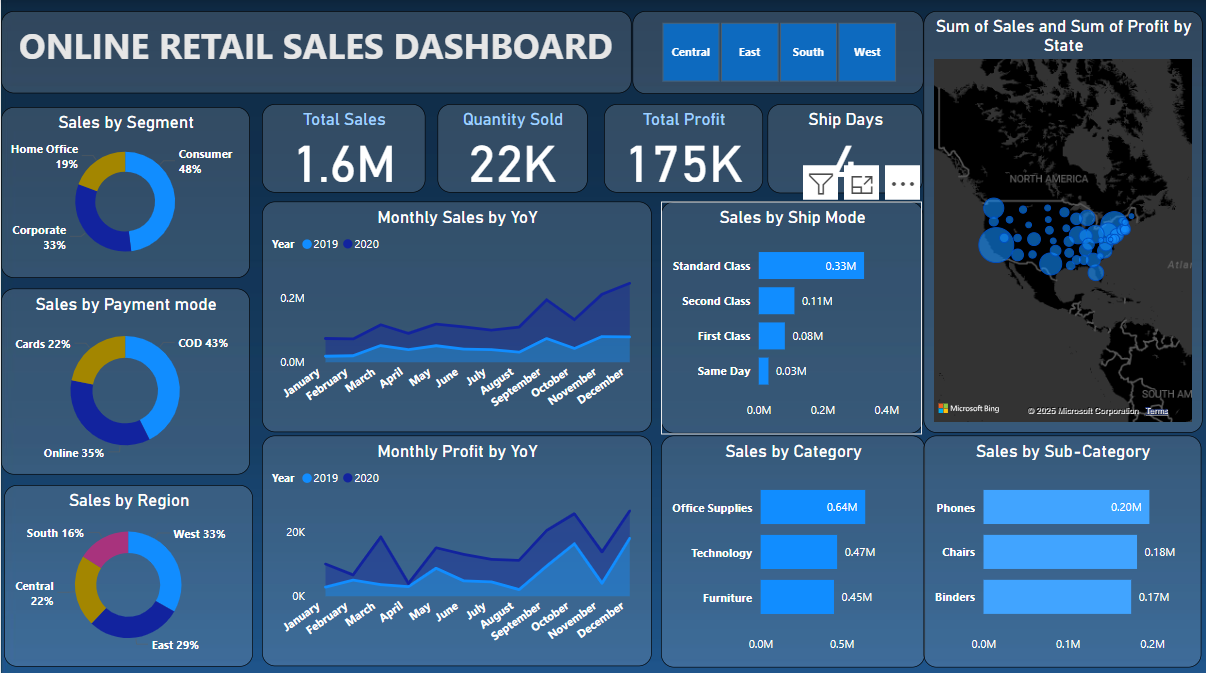

What the dashboard file says about the page in this screenshot:
{"tool":"powerbi","page":{"name":"Dashboard","canvas":[1280,720],"ordinal":0},"visuals":[{"type":"clusteredBarChart","title":"Sales by Category","fields":{"Category":["Sheet1.Category"],"Y":["Sum(Sheet1.Sales)"]},"box":[699.2,463,279.7,245.7],"z":0},{"type":"clusteredBarChart","title":"Sales by Sub-Category","fields":{"Category":["Sheet1.Sub-Category"],"Y":["Sum(Sheet1.Sales)"]},"box":[978.9,463,294.8,245.7],"z":1000},{"type":"card","title":"Total Sales","fields":{"Values":["Sum(Sheet1.Sales)"]},"box":[276.8,111.3,173.4,93.8],"z":2000},{"type":"card","title":"Ship Days","fields":{"Values":["Avg(Sheet1.Avg Delivery)"]},"box":[812.6,111.5,164.4,94.5],"z":3000},{"type":"card","title":"Quantity Sold","fields":{"Values":["Sum(Sheet1.Quantity)"]},"box":[462.9,111.3,159.1,93.8],"z":4000},{"type":"card","title":"Total Profit","fields":{"Values":["Sum(Sheet1.Profit)"]},"box":[639.4,111.3,168.6,93.8],"z":5000},{"type":"clusteredBarChart","title":"Sales by Ship Mode","fields":{"Category":["Sheet1.Ship Mode"],"Y":["Sum(Sheet1.Sales)"]},"box":[699.2,215.4,277.8,245.7],"z":6000},{"type":"map","fields":{"Category":["Sheet1.State"],"Size":["Sum(Sheet1.Sales)"]},"box":[978.6,12.9,295.7,447.1],"z":7000},{"type":"stackedAreaChart","title":"Monthly Sales by YoY","fields":{"Y":["Sum(Sheet1.Sales)"],"Series":["Sheet1.Order Date.Variation.Date Hierarchy.Year"],"Category":["Sheet1.Order Date.Variation.Date Hierarchy.Month","Sheet1.Order Date.Variation.Date Hierarchy.Day"]},"box":[276.8,214.7,413.6,245],"z":8000},{"type":"slicer","fields":{"Values":["Sheet1.Region"]},"box":[669.3,12.1,308.9,87.8],"z":9000},{"type":"stackedAreaChart","title":"Monthly Profit by YoY","fields":{"Series":["Sheet1.Order Date.Variation.Date Hierarchy.Year"],"Y":["Sum(Sheet1.Profit)"],"Category":["Sheet1.Order Date.Variation.Date Hierarchy.Month","Sheet1.Order Date.Variation.Date Hierarchy.Day"]},"box":[276.8,462.9,413.6,245],"z":10000},{"type":"textbox","box":[0,12.9,668.6,87.1],"z":11000},{"type":"donutChart","title":"Sales by Segment","fields":{"Category":["Sheet1.Segment"],"Y":["Sum(Sheet1.Sales)"]},"box":[0,114.5,264,181.3],"z":12000},{"type":"donutChart","title":"Sales by Payment mode","fields":{"Category":["Sheet1.Payment Mode"],"Y":["Sum(Sheet1.Sales)"]},"box":[0,307,264,197.2],"z":13000},{"type":"donutChart","title":"Sales by Region","fields":{"Category":["Sheet1.Region"],"Y":["Sum(Sheet1.Sales)"]},"box":[3.2,515.4,264,192.5],"z":14000}]}

Visuals, with their boxes in screenshot pixels (x1, y1, x2, y2), scaled from the page's 1280x720 canvas onto the 1206x673 screenshot:
"Sales by Category" clusteredBarChart: x1=659, y1=433, x2=922, y2=662
"Sales by Sub-Category" clusteredBarChart: x1=922, y1=433, x2=1200, y2=662
"Total Sales" card: x1=261, y1=104, x2=424, y2=192
"Ship Days" card: x1=766, y1=104, x2=921, y2=193
"Quantity Sold" card: x1=436, y1=104, x2=586, y2=192
"Total Profit" card: x1=602, y1=104, x2=761, y2=192
"Sales by Ship Mode" clusteredBarChart: x1=659, y1=201, x2=921, y2=431
map - Sheet1.State x Sum(Sheet1.Sales): x1=922, y1=12, x2=1201, y2=430
"Monthly Sales by YoY" stackedAreaChart: x1=261, y1=201, x2=650, y2=430
slicer - Sheet1.Region: x1=631, y1=11, x2=922, y2=93
"Monthly Profit by YoY" stackedAreaChart: x1=261, y1=433, x2=650, y2=662
textbox: x1=0, y1=12, x2=630, y2=93
"Sales by Segment" donutChart: x1=0, y1=107, x2=249, y2=276
"Sales by Payment mode" donutChart: x1=0, y1=287, x2=249, y2=471
"Sales by Region" donutChart: x1=3, y1=482, x2=252, y2=662
